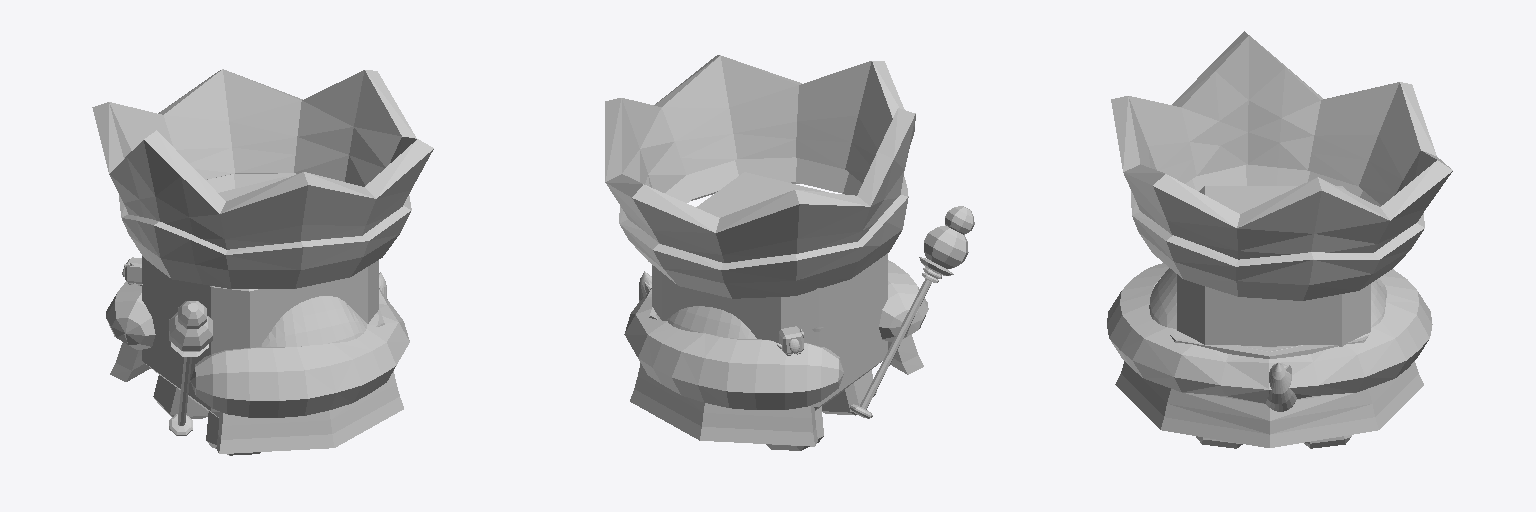
Rendered from King Bruh.obj.
3 renders of one model, left to right at view 1: azimuth 30°, elevation 25°; view 2: azimuth 150°, elevation 25°; view 3: azimuth 270°, elevation 25°, orthographic.
Parts seen in each view (by area): view 1: Meshesbglnewwwcircle0021, Meshesbglnewwwcylinder0021, Meshesbglnewwwcircle0011, Mesh3, Meshesbglnewwwcylinder0031, Mesh1, Mesh4, MeshesrainbowKingSlimecylinder00211, MeshesrainbowKingSlimecylinder00212, MeshesrainbowKingSlimecylinder00511; view 2: Meshesbglnewwwcircle0021, Meshesbglnewwwcylinder0021, Meshesbglnewwwcircle0011, Mesh3, Meshesbglnewwwcylinder0031, Mesh1, MeshesrainbowKingSlimecylinder00211, Mesh4, MeshesrainbowKingSlimecylinder00511, MeshesrainbowKingSlimecylinder00212, MeshesrainbowKingSlimecylinder00111; view 3: Meshesbglnewwwcircle0021, Meshesbglnewwwcylinder0021, Meshesbglnewwwcylinder0031, Meshesbglnewwwcircle0011, Mesh3, Mesh1, Mesh2, Mesh4.
Boxes of the visible parts, box(x1,y1,x2,y2) form: Meshesbglnewwwcircle0021: box(92, 69, 433, 249); Meshesbglnewwwcylinder0021: box(106, 281, 409, 417); Meshesbglnewwwcircle0011: box(119, 173, 411, 288); Mesh3: box(142, 177, 378, 417); Meshesbglnewwwcylinder0031: box(110, 308, 403, 453); Mesh1: box(261, 296, 366, 346); Mesh4: box(153, 375, 260, 455); MeshesrainbowKingSlimecylinder00211: box(169, 312, 212, 351); MeshesrainbowKingSlimecylinder00212: box(178, 301, 206, 328); MeshesrainbowKingSlimecylinder00511: box(178, 357, 191, 425); Meshesbglnewwwcircle0021: box(605, 55, 915, 262); Meshesbglnewwwcylinder0021: box(624, 260, 928, 409); Meshesbglnewwwcircle0011: box(619, 157, 908, 298); Mesh3: box(652, 172, 887, 410); Meshesbglnewwwcylinder0031: box(630, 307, 923, 446); Mesh1: box(666, 306, 756, 338); MeshesrainbowKingSlimecylinder00211: box(924, 225, 968, 268); Mesh4: box(766, 370, 876, 450); MeshesrainbowKingSlimecylinder00511: box(860, 279, 931, 409); MeshesrainbowKingSlimecylinder00212: box(945, 206, 974, 234); MeshesrainbowKingSlimecylinder00111: box(850, 257, 953, 418); Meshesbglnewwwcircle0021: box(1111, 31, 1452, 259); Meshesbglnewwwcylinder0021: box(1107, 263, 1432, 403); Meshesbglnewwwcylinder0031: box(1115, 335, 1423, 447); Meshesbglnewwwcircle0011: box(1131, 164, 1424, 300); Mesh3: box(1177, 186, 1370, 346); Mesh1: box(1149, 268, 1385, 329); Mesh2: box(1266, 362, 1296, 411); Mesh4: box(1196, 435, 1351, 448).
Size of the model in its own units: 22.53 by 24.92 by 23.75.